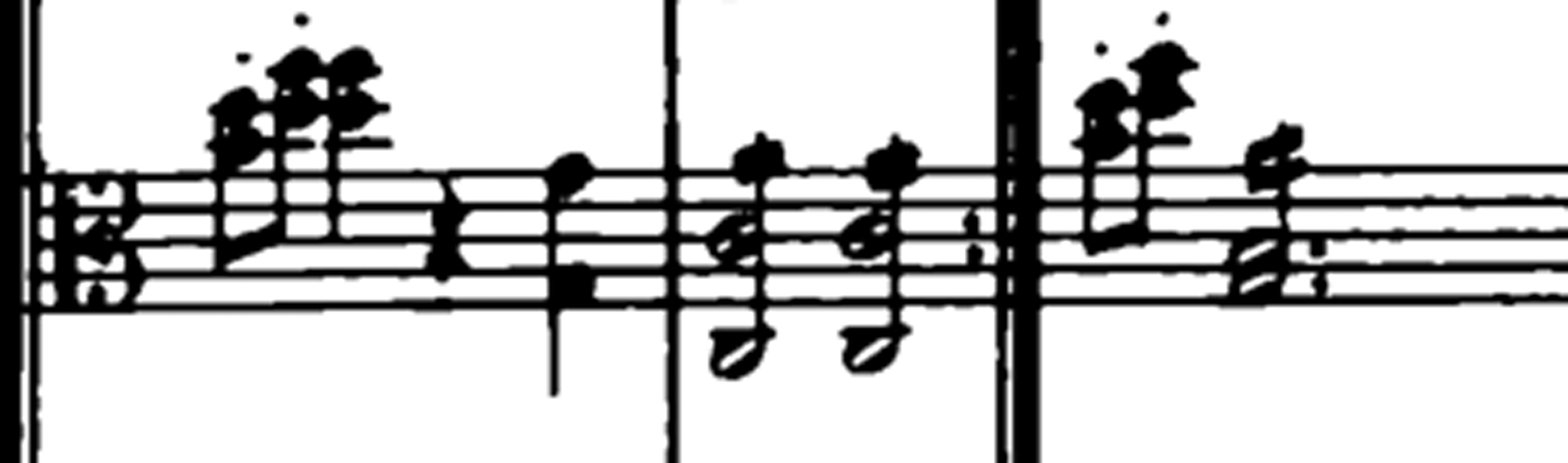clefCAlto: (44, 141, 168, 338)
noteheadBlackInSpace: (1131, 42, 1192, 75), (268, 48, 322, 82), (328, 48, 377, 85), (1076, 79, 1127, 114), (211, 88, 259, 120), (1262, 124, 1302, 160), (996, 0, 1039, 20)
noteheadBlackOnLine: (323, 89, 382, 130), (211, 126, 263, 165), (544, 153, 593, 192), (282, 87, 321, 129), (1084, 123, 1128, 160), (867, 160, 919, 188), (1015, 256, 1040, 282), (1015, 288, 1040, 313)
restHBar: (0, 252, 988, 320)
staff: (177, 152, 1352, 289)
